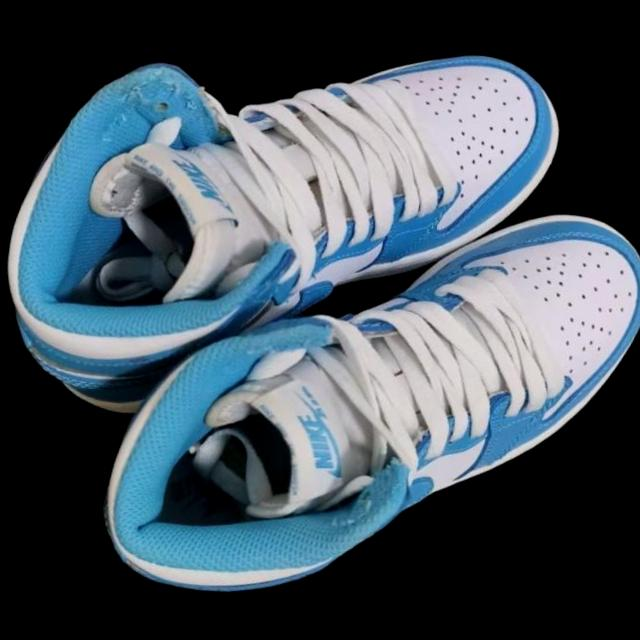nike_original_jordan: (0, 0, 626, 489), (91, 143, 640, 640)
